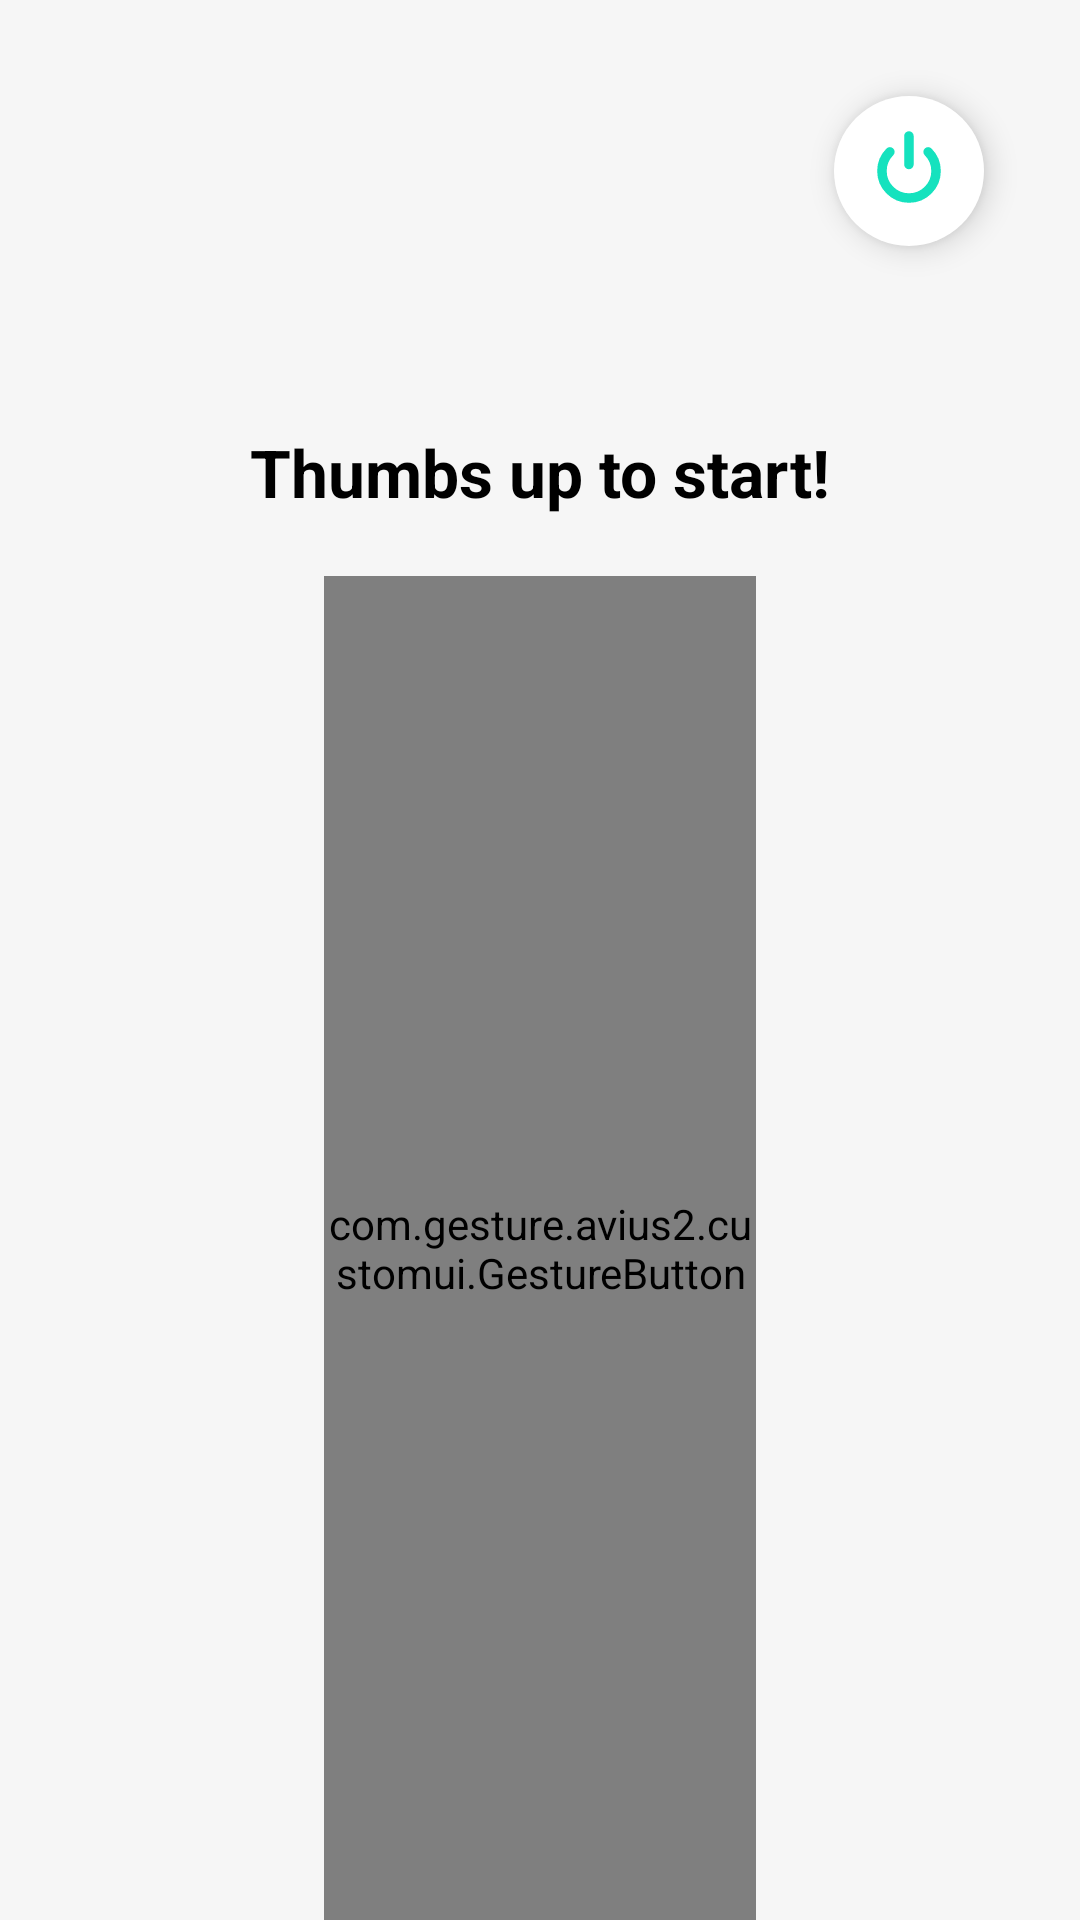

Icons on this 1080w x 1920h Android screen, each with the point to tap as [x,y]:
power: [909,171]
